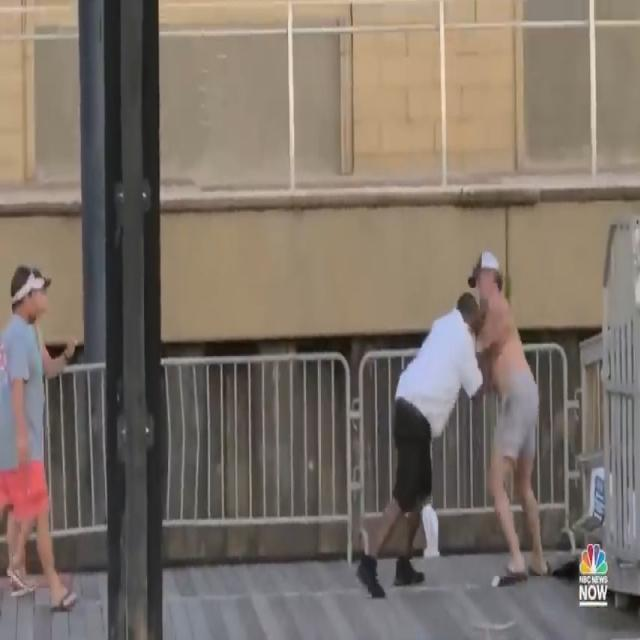fight: (357, 240, 554, 602)
non-fight: (0, 259, 85, 617)
